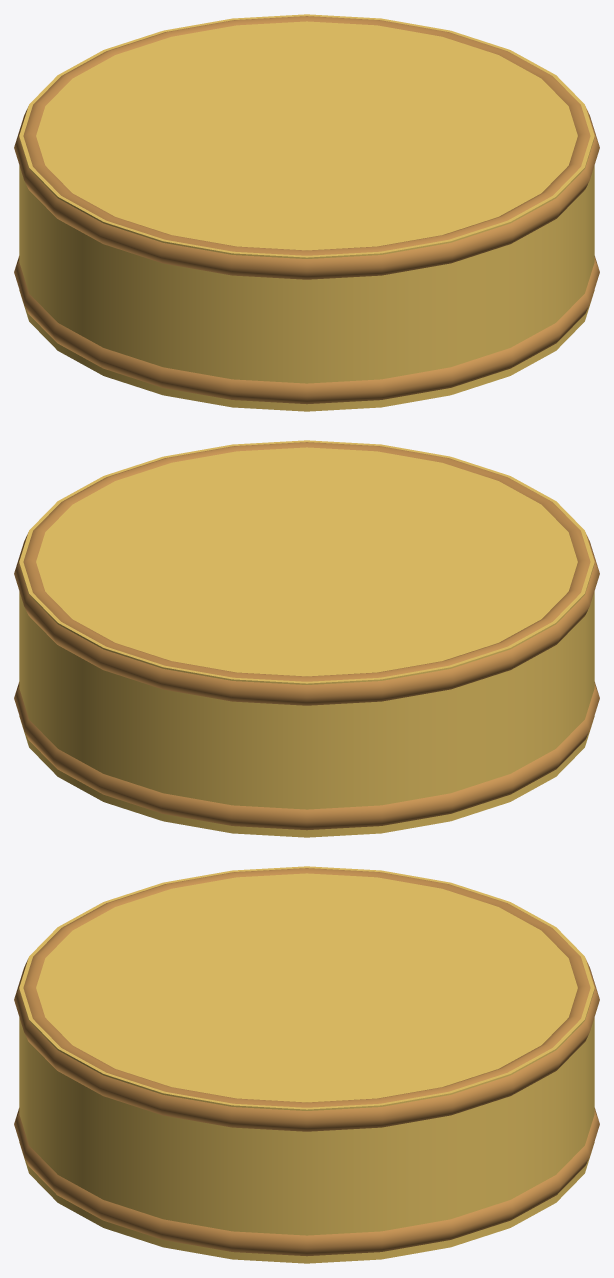
Rendered from adventurers-tavern-and-guild-hall-cheese-wheel-a53ce7ec__24720.glb.
3 renders of one model, top to bottom at view 1: azimuth 30°, elevation 25°; view 2: azimuth 150°, elevation 25°; view 3: azimuth 270°, elevation 25°, orthographic.
Parts seen in each view (by area): view 1: cheese-wheel; view 2: cheese-wheel; view 3: cheese-wheel.
Boxes of the visible parts, x1,y1,x2,y2 form: cheese-wheel: [14, 14, 599, 411]; cheese-wheel: [14, 440, 599, 837]; cheese-wheel: [14, 866, 599, 1263].
Size of the model in its own units: 0.448 by 0.132 by 0.448.
